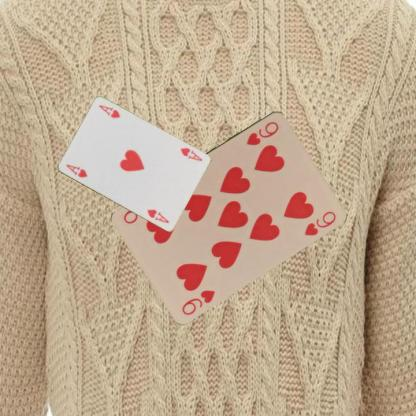9h: (179, 287, 217, 316), (243, 118, 280, 147)
Ah: (178, 145, 203, 162), (63, 162, 88, 178)
